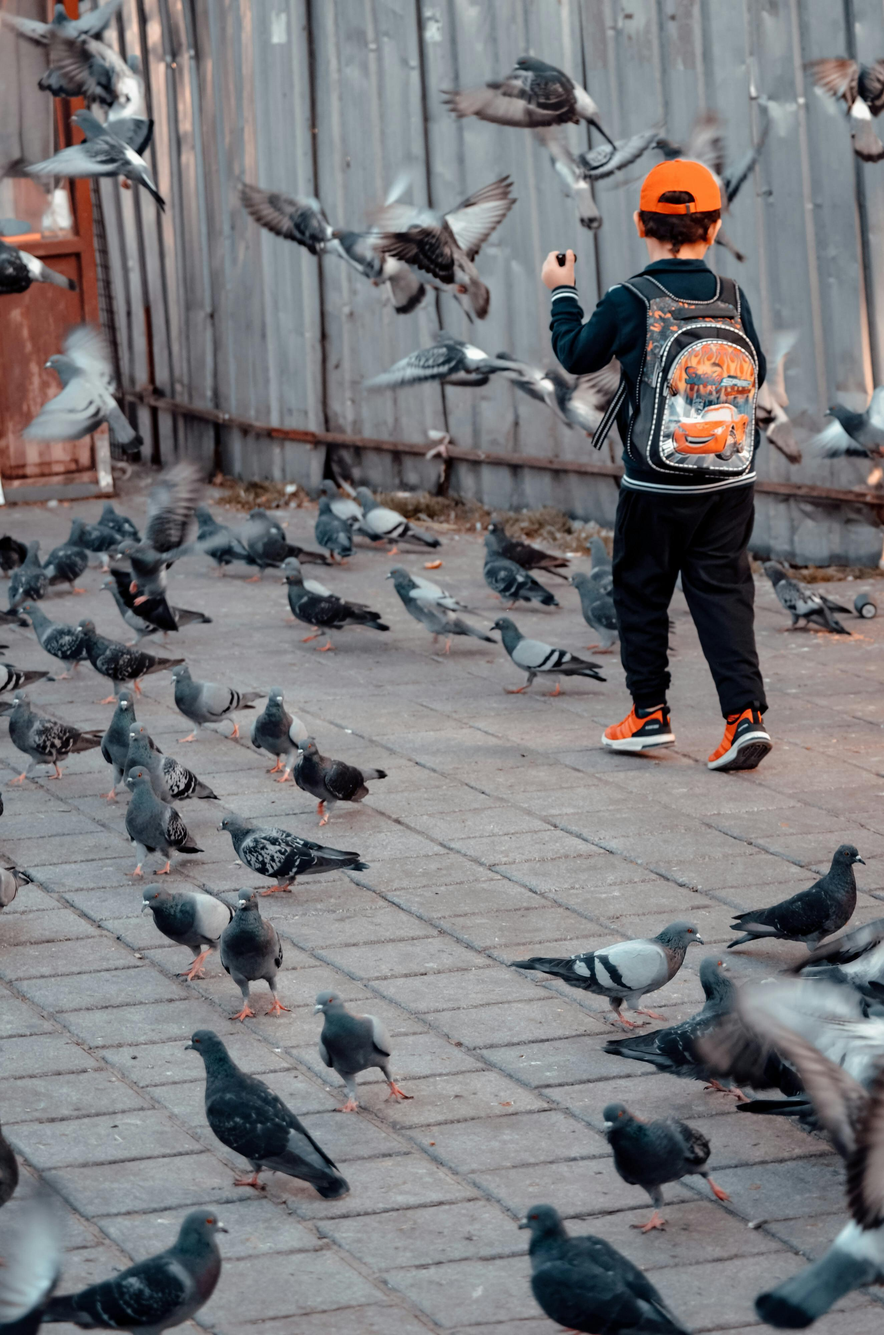Human: (555, 105, 814, 782)
